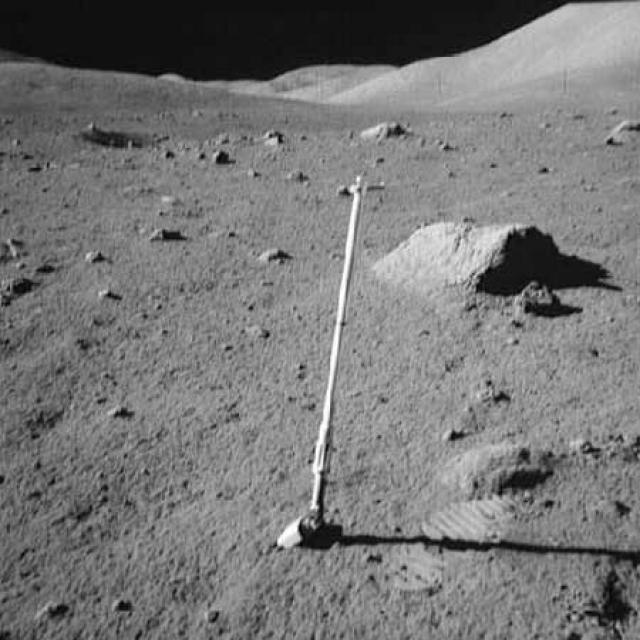artifact: (273, 174, 390, 544)
crater: (81, 123, 163, 150)
rock: (372, 210, 556, 287), (442, 436, 550, 492), (511, 278, 560, 316), (360, 113, 408, 146), (602, 111, 639, 149), (145, 225, 188, 245), (255, 243, 292, 266), (262, 126, 287, 150), (81, 244, 104, 264), (214, 145, 230, 168)
